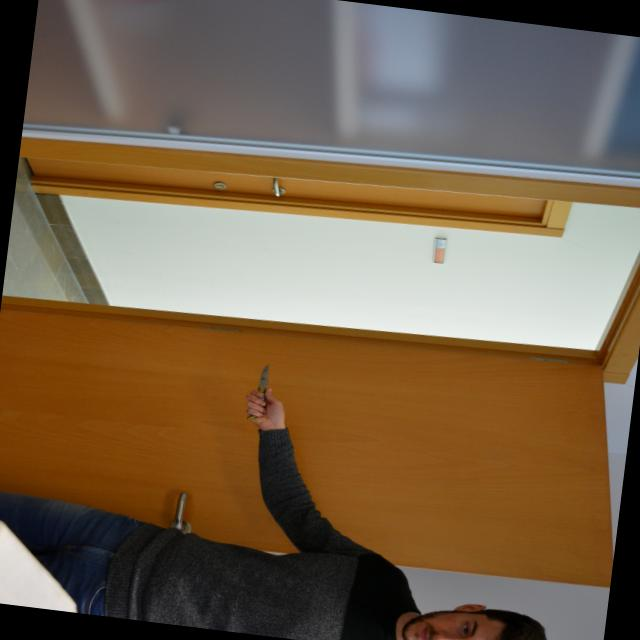knife: (242, 358, 276, 424)
